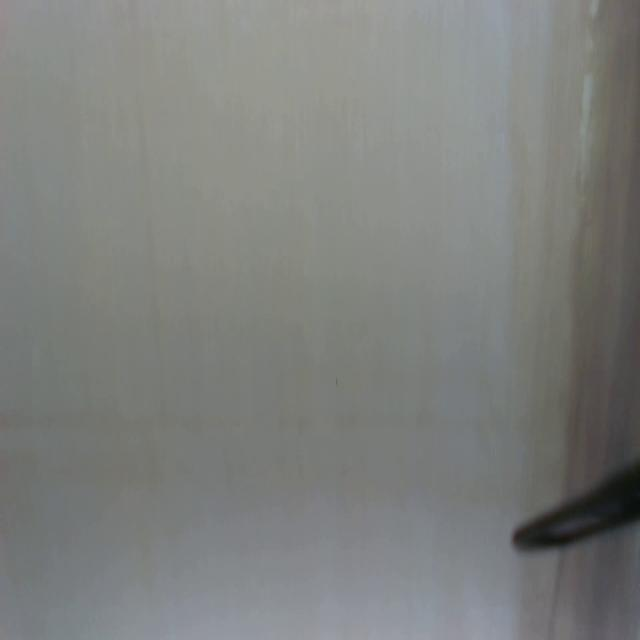color bleeding: (505, 4, 640, 461)
hole: (510, 553, 640, 640), (335, 376, 340, 388)
